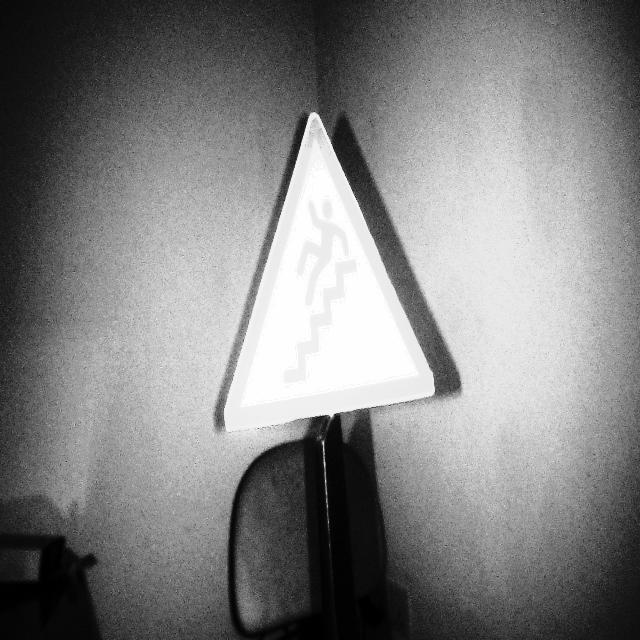Sign: (222, 110, 436, 434)
